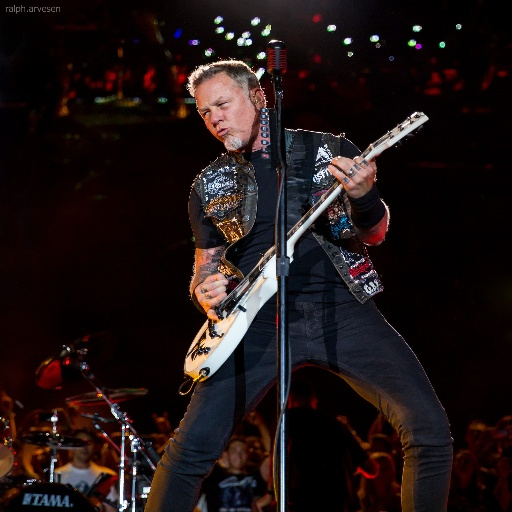hand: (193, 266, 247, 313), (325, 154, 376, 200), (152, 412, 171, 433), (250, 492, 269, 511), (0, 388, 13, 415), (246, 409, 263, 428)
